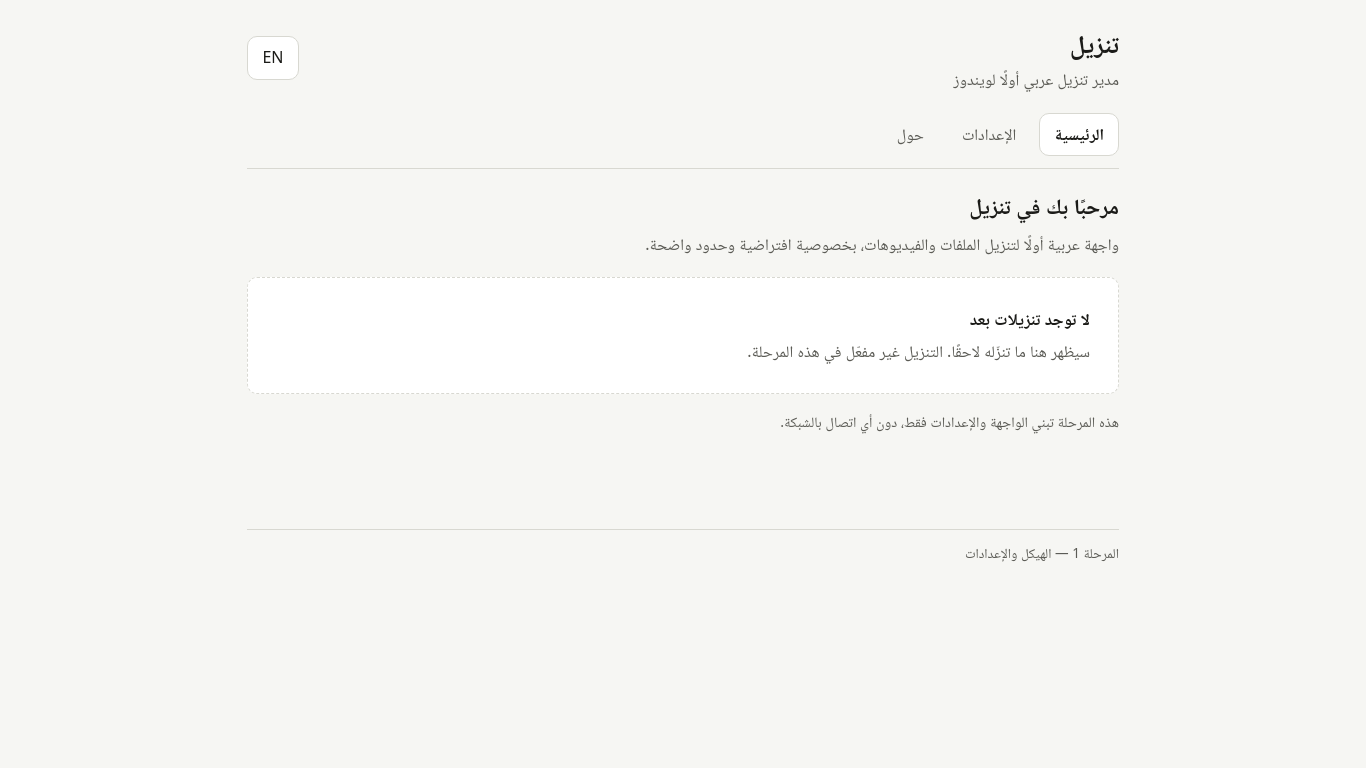
Test: settings screen › saves the download folder and theme locally
The width and height of the screenshot is (1366, 768).
Expected: the button "الرئيسية" is shown, [1039,112,1119,156]
Click the button "الإعدادات" at (989, 134), box [947,112,1031,156]
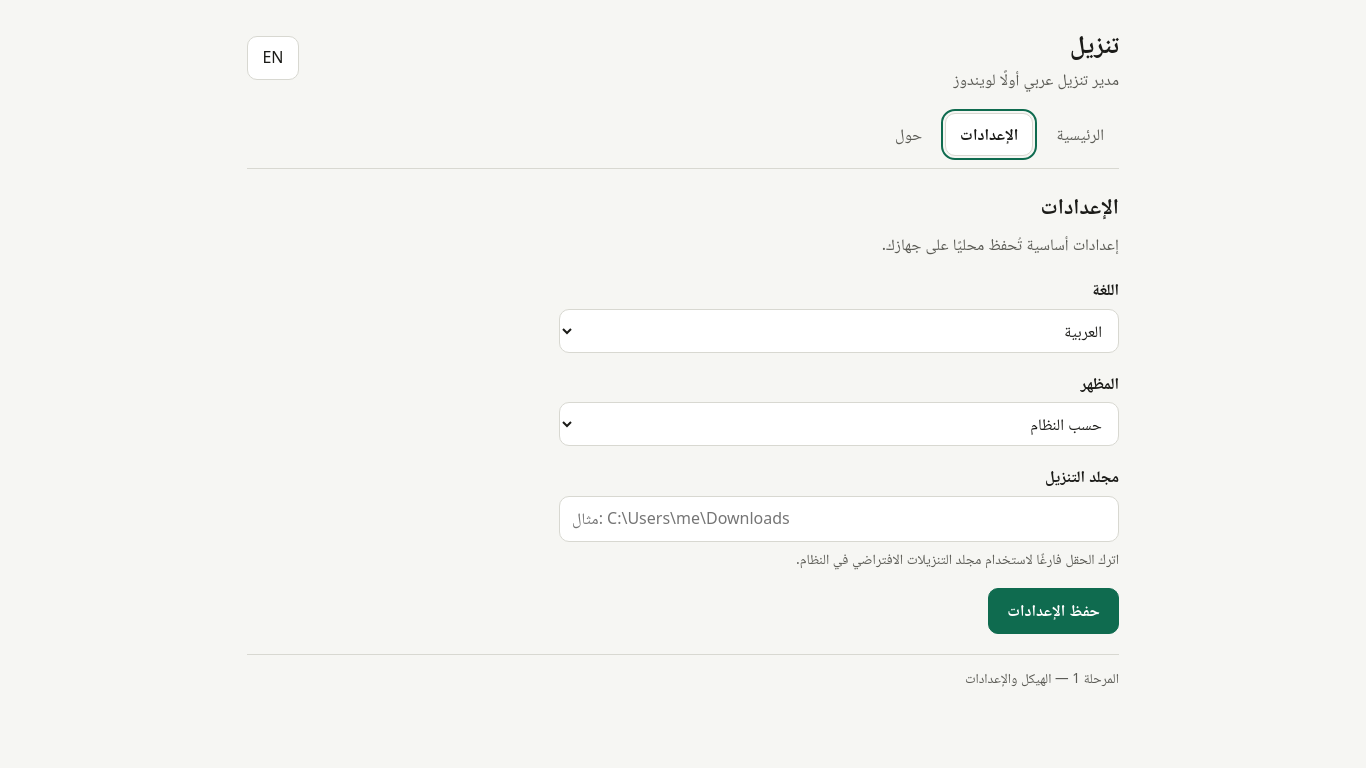
Now the field labelled "مجلد التنزيل" is shown
Type "D:\\Downloads" into the field labelled "مجلد التنزيل" at (839, 519), box [559,496,1119,542]
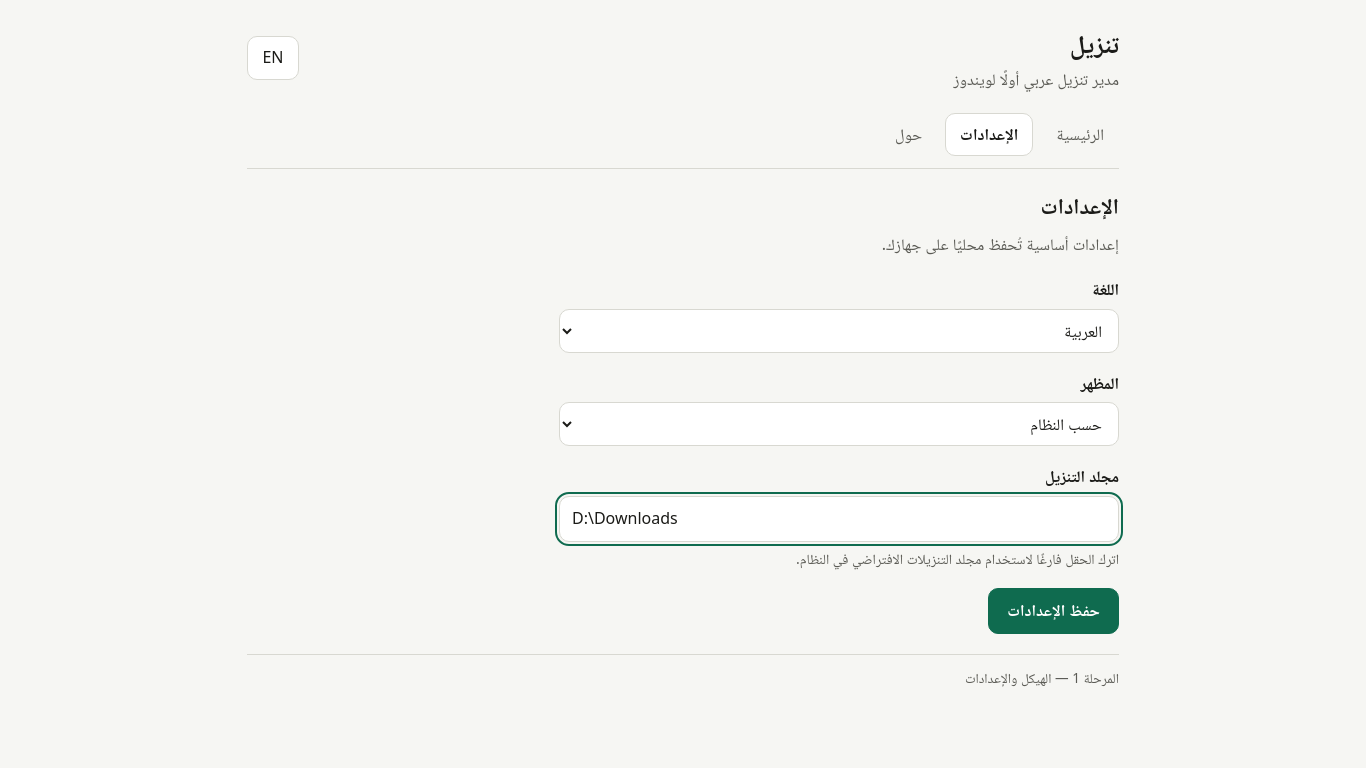
Select "داكن" in the dropdown labelled "المظهر" at (839, 424), box [559,402,1119,446]
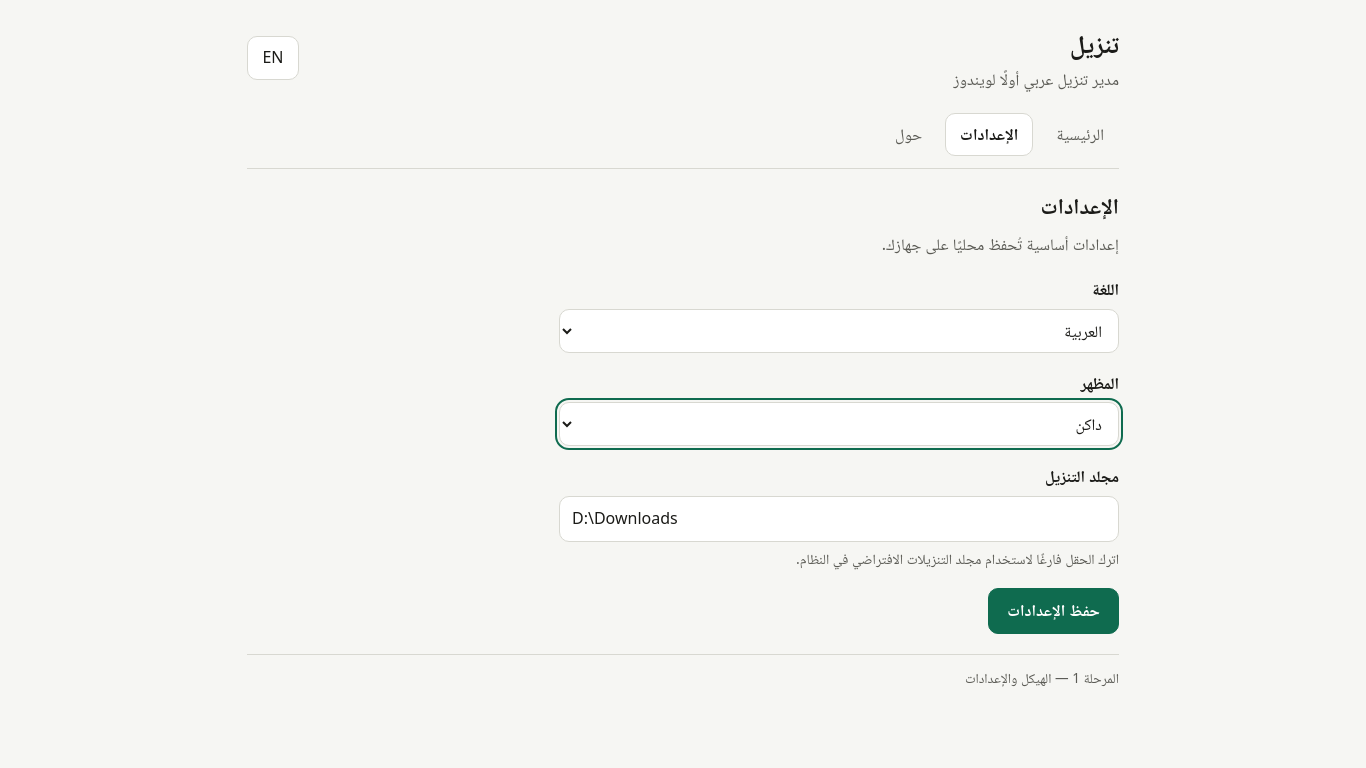
Click the button "حفظ الإعدادات" at (1054, 611), box [988,588,1119,634]
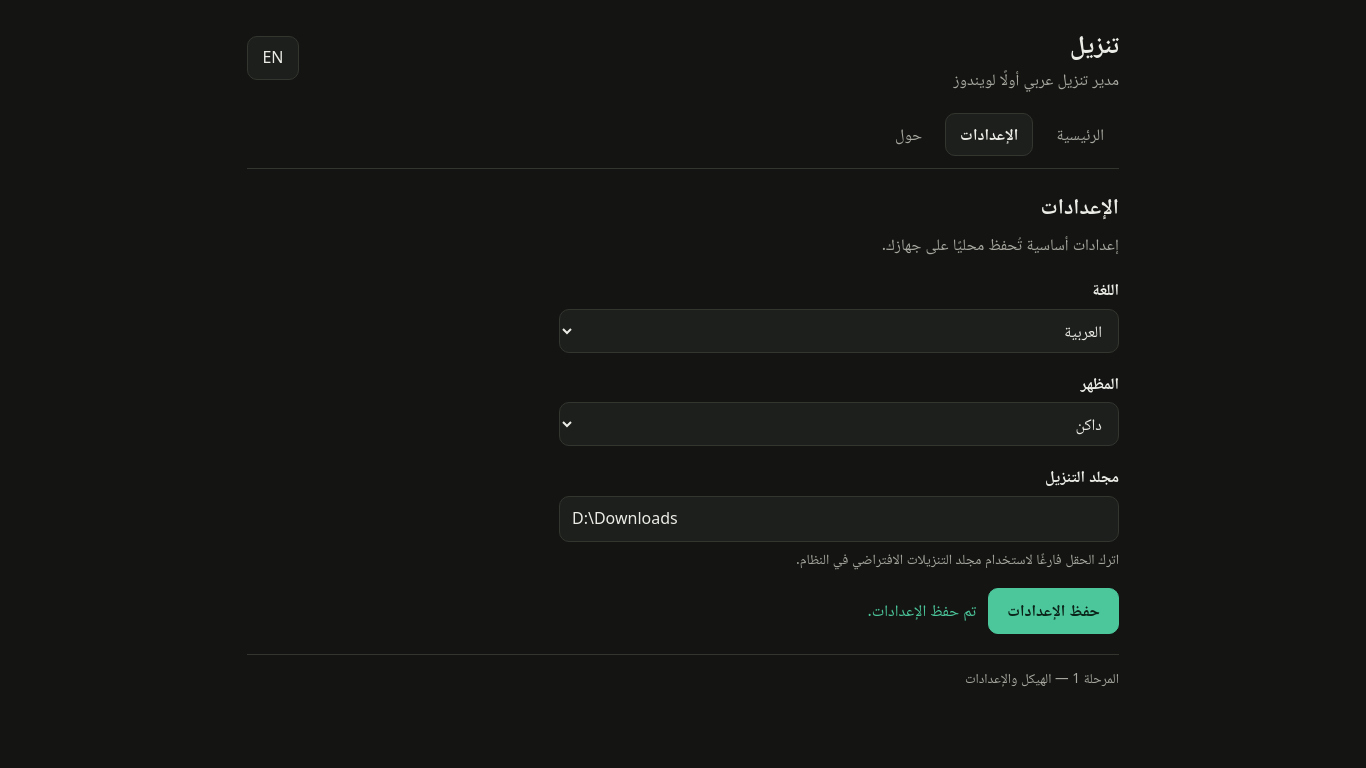
Now the text "تم حفظ الإعدادات." is shown, box [868,598,976,624]
